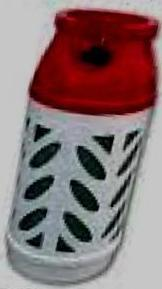cylinder: (1, 1, 162, 289)
